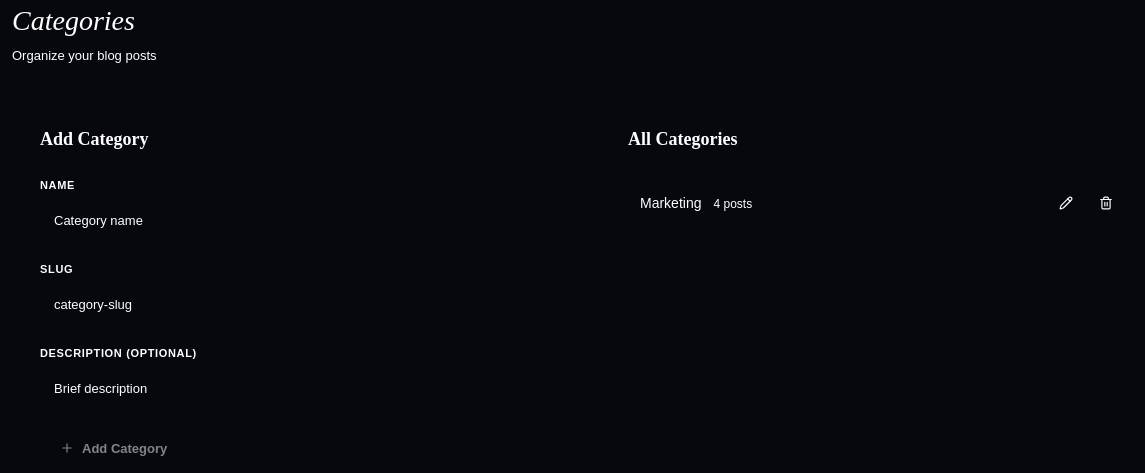
Scenario: CategoriesManager › preserves a category's saved slug when only its name changes
Later steps or results of the test are not shown.
Step 1. Click the button named "Edit Marketing" → (1066, 202), box [1048, 196, 1084, 210]
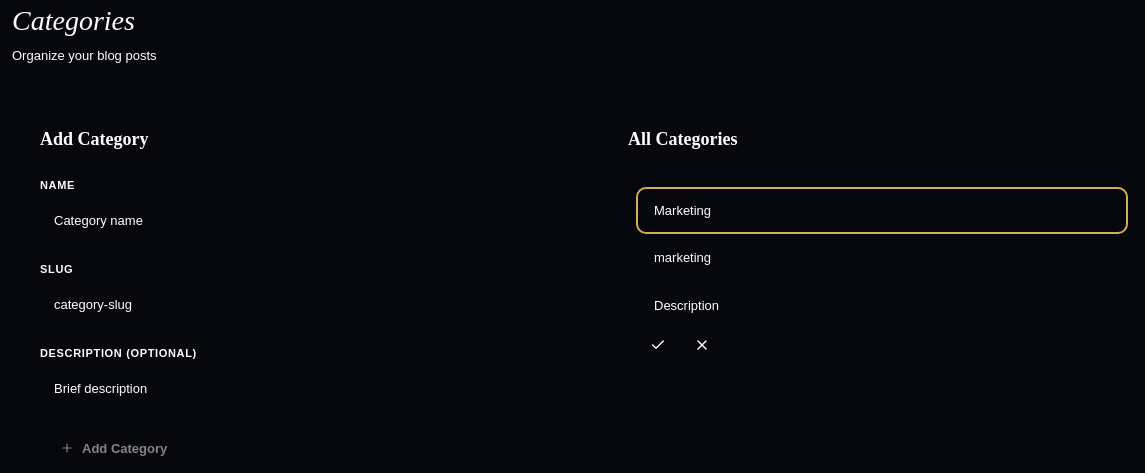
Step 2. Replace the text in the field named "Category name" with "Marketing for owners" → (882, 210), box [640, 190, 1124, 230]
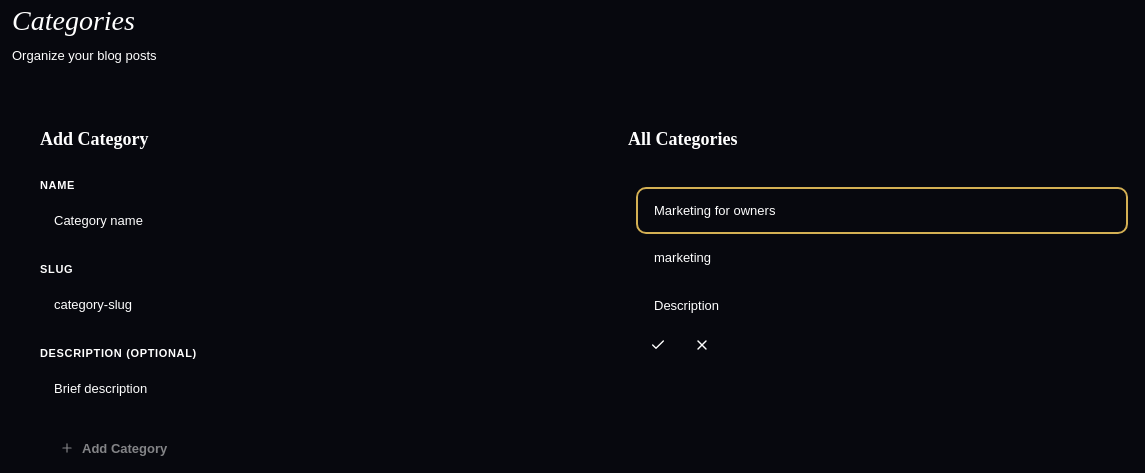
Expected: the field named "Category slug" holds "marketing", [640, 238, 1124, 278]
